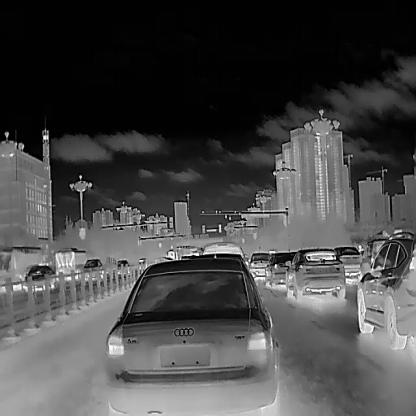bus: (0, 246, 42, 294), (55, 247, 86, 280)
car: (105, 258, 279, 415), (354, 231, 416, 349), (285, 245, 345, 299), (265, 252, 293, 287), (332, 246, 362, 277), (247, 250, 272, 275), (25, 264, 56, 280), (82, 258, 102, 273), (116, 258, 128, 268)
